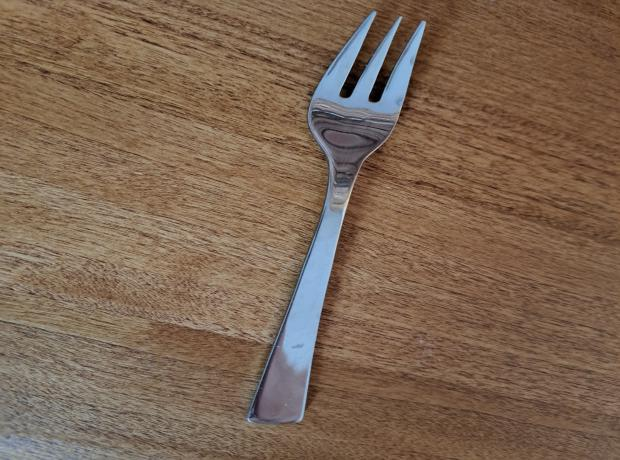metal: (244, 9, 434, 426)
